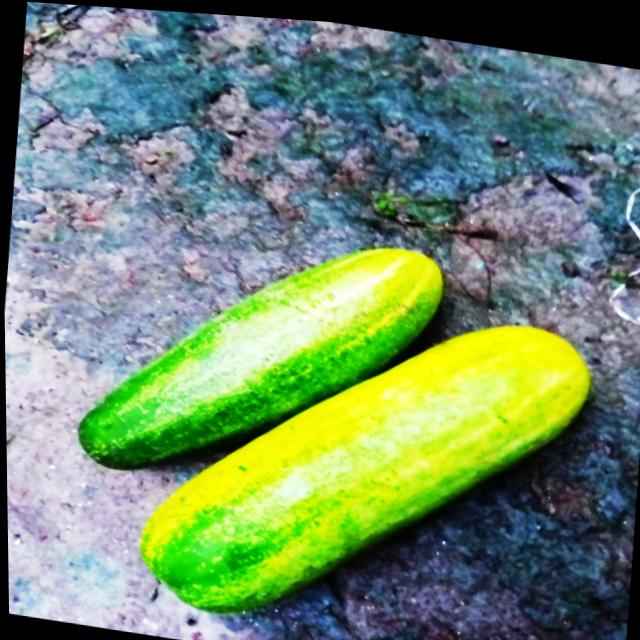Fresh-Cucumber: (55, 194, 603, 640)
